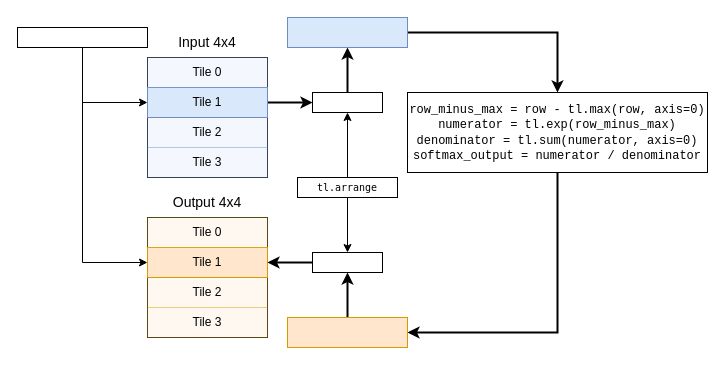
Image size: 725x365. Some labels were removed from this diagram. Each missing label, with the box of its shape:
output: (286, 316, 408, 348)
row: (286, 16, 408, 48)
tl.load: (312, 92, 382, 112)
tl.program_id(0)==1: (16, 26, 148, 48)
tl.store: (312, 252, 382, 272)
